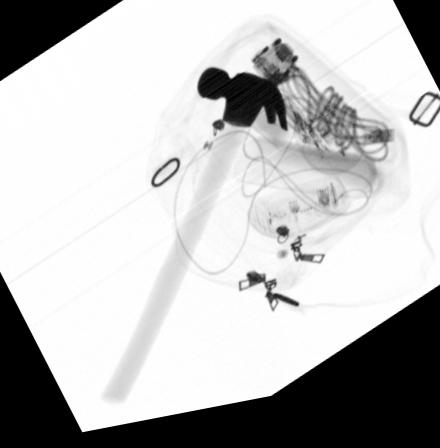Hammer: (98, 74, 288, 408)
